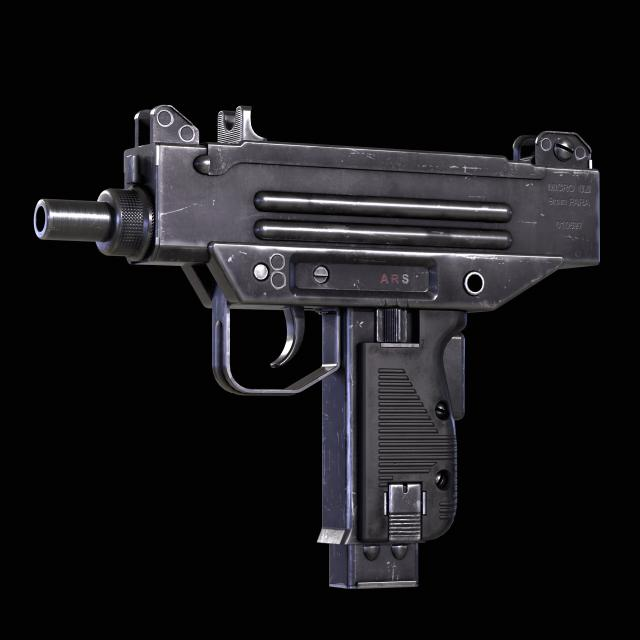SMG: (31, 105, 604, 592)
